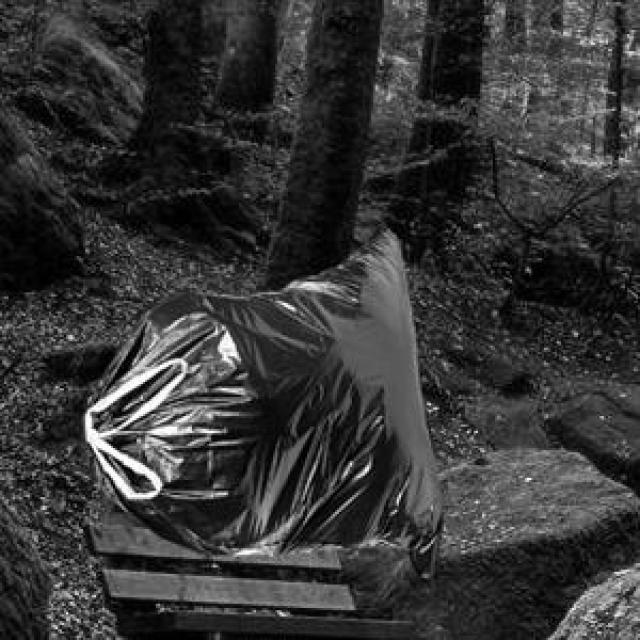miscellaneous trash: (79, 220, 437, 589)
